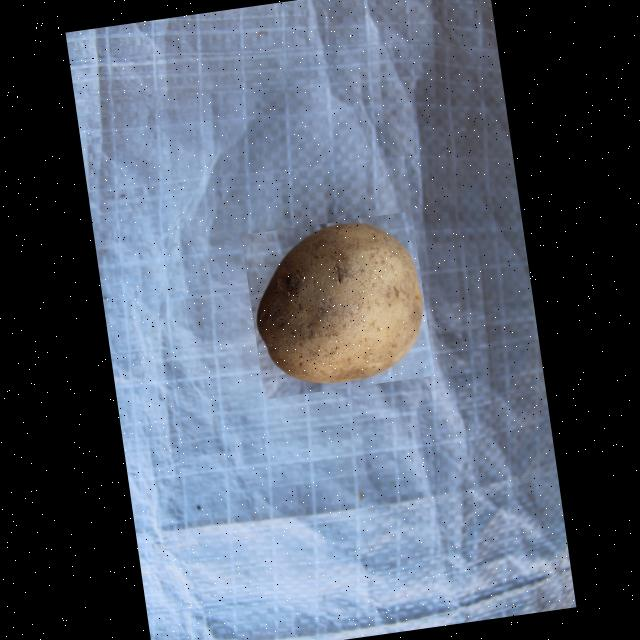Diseased-fungal potato: (241, 212, 434, 400)
